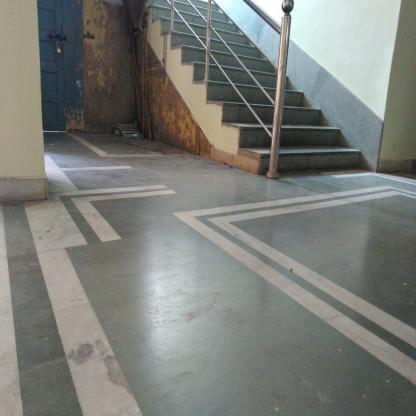stairs: (286, 106, 323, 179)
